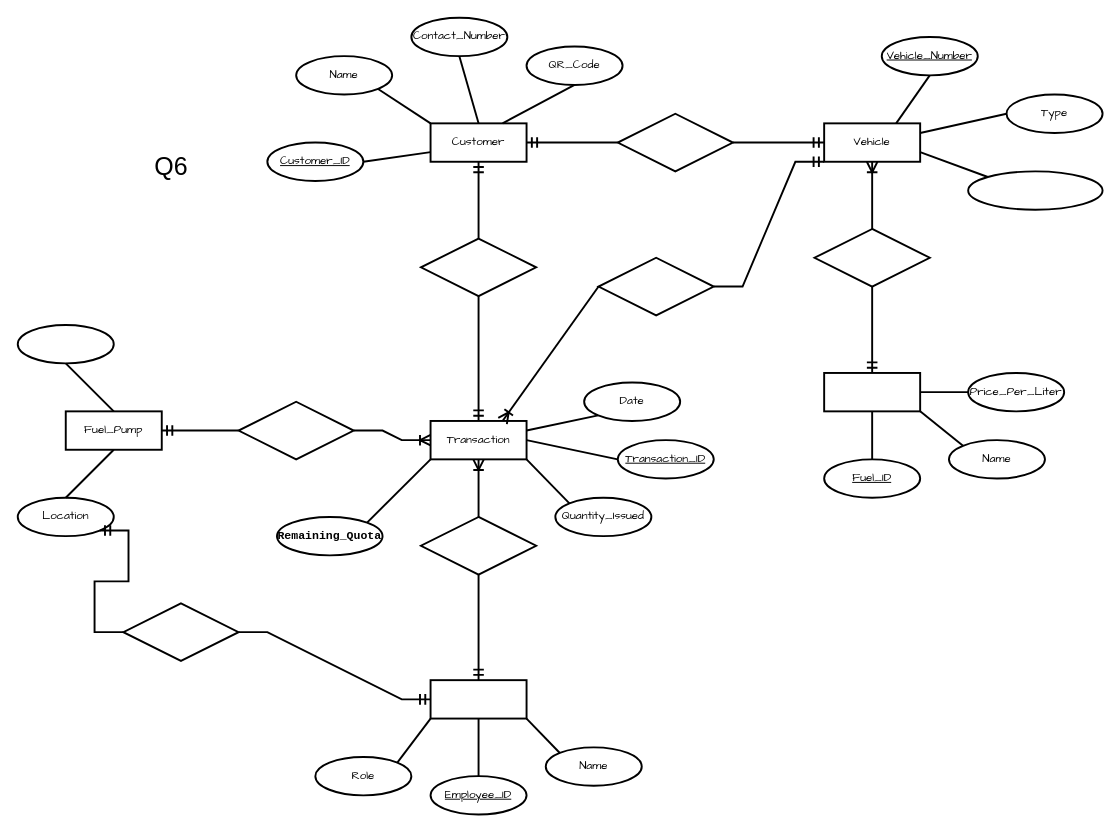
This 1119x831 diagram has some shape labels left out. The shapes that lost their labels are listed below. From the top down, each one's centre as x and y in pixels, then its label:
At (x=674, y=142): "Owns".
At (x=1035, y=190): "Fuel_Quota_Per_Week".
At (x=478, y=267): "Makes".
At (x=871, y=257): "Requires".
At (x=655, y=286): "Used_in".
At (x=65, y=344): "Pump_ID".
At (x=872, y=392): "Fuel_Type".
At (x=295, y=430): "Dispensed_At".
At (x=478, y=545): "proceeds".
At (x=180, y=631): "Operated_By".
At (x=478, y=699): "Employee".
